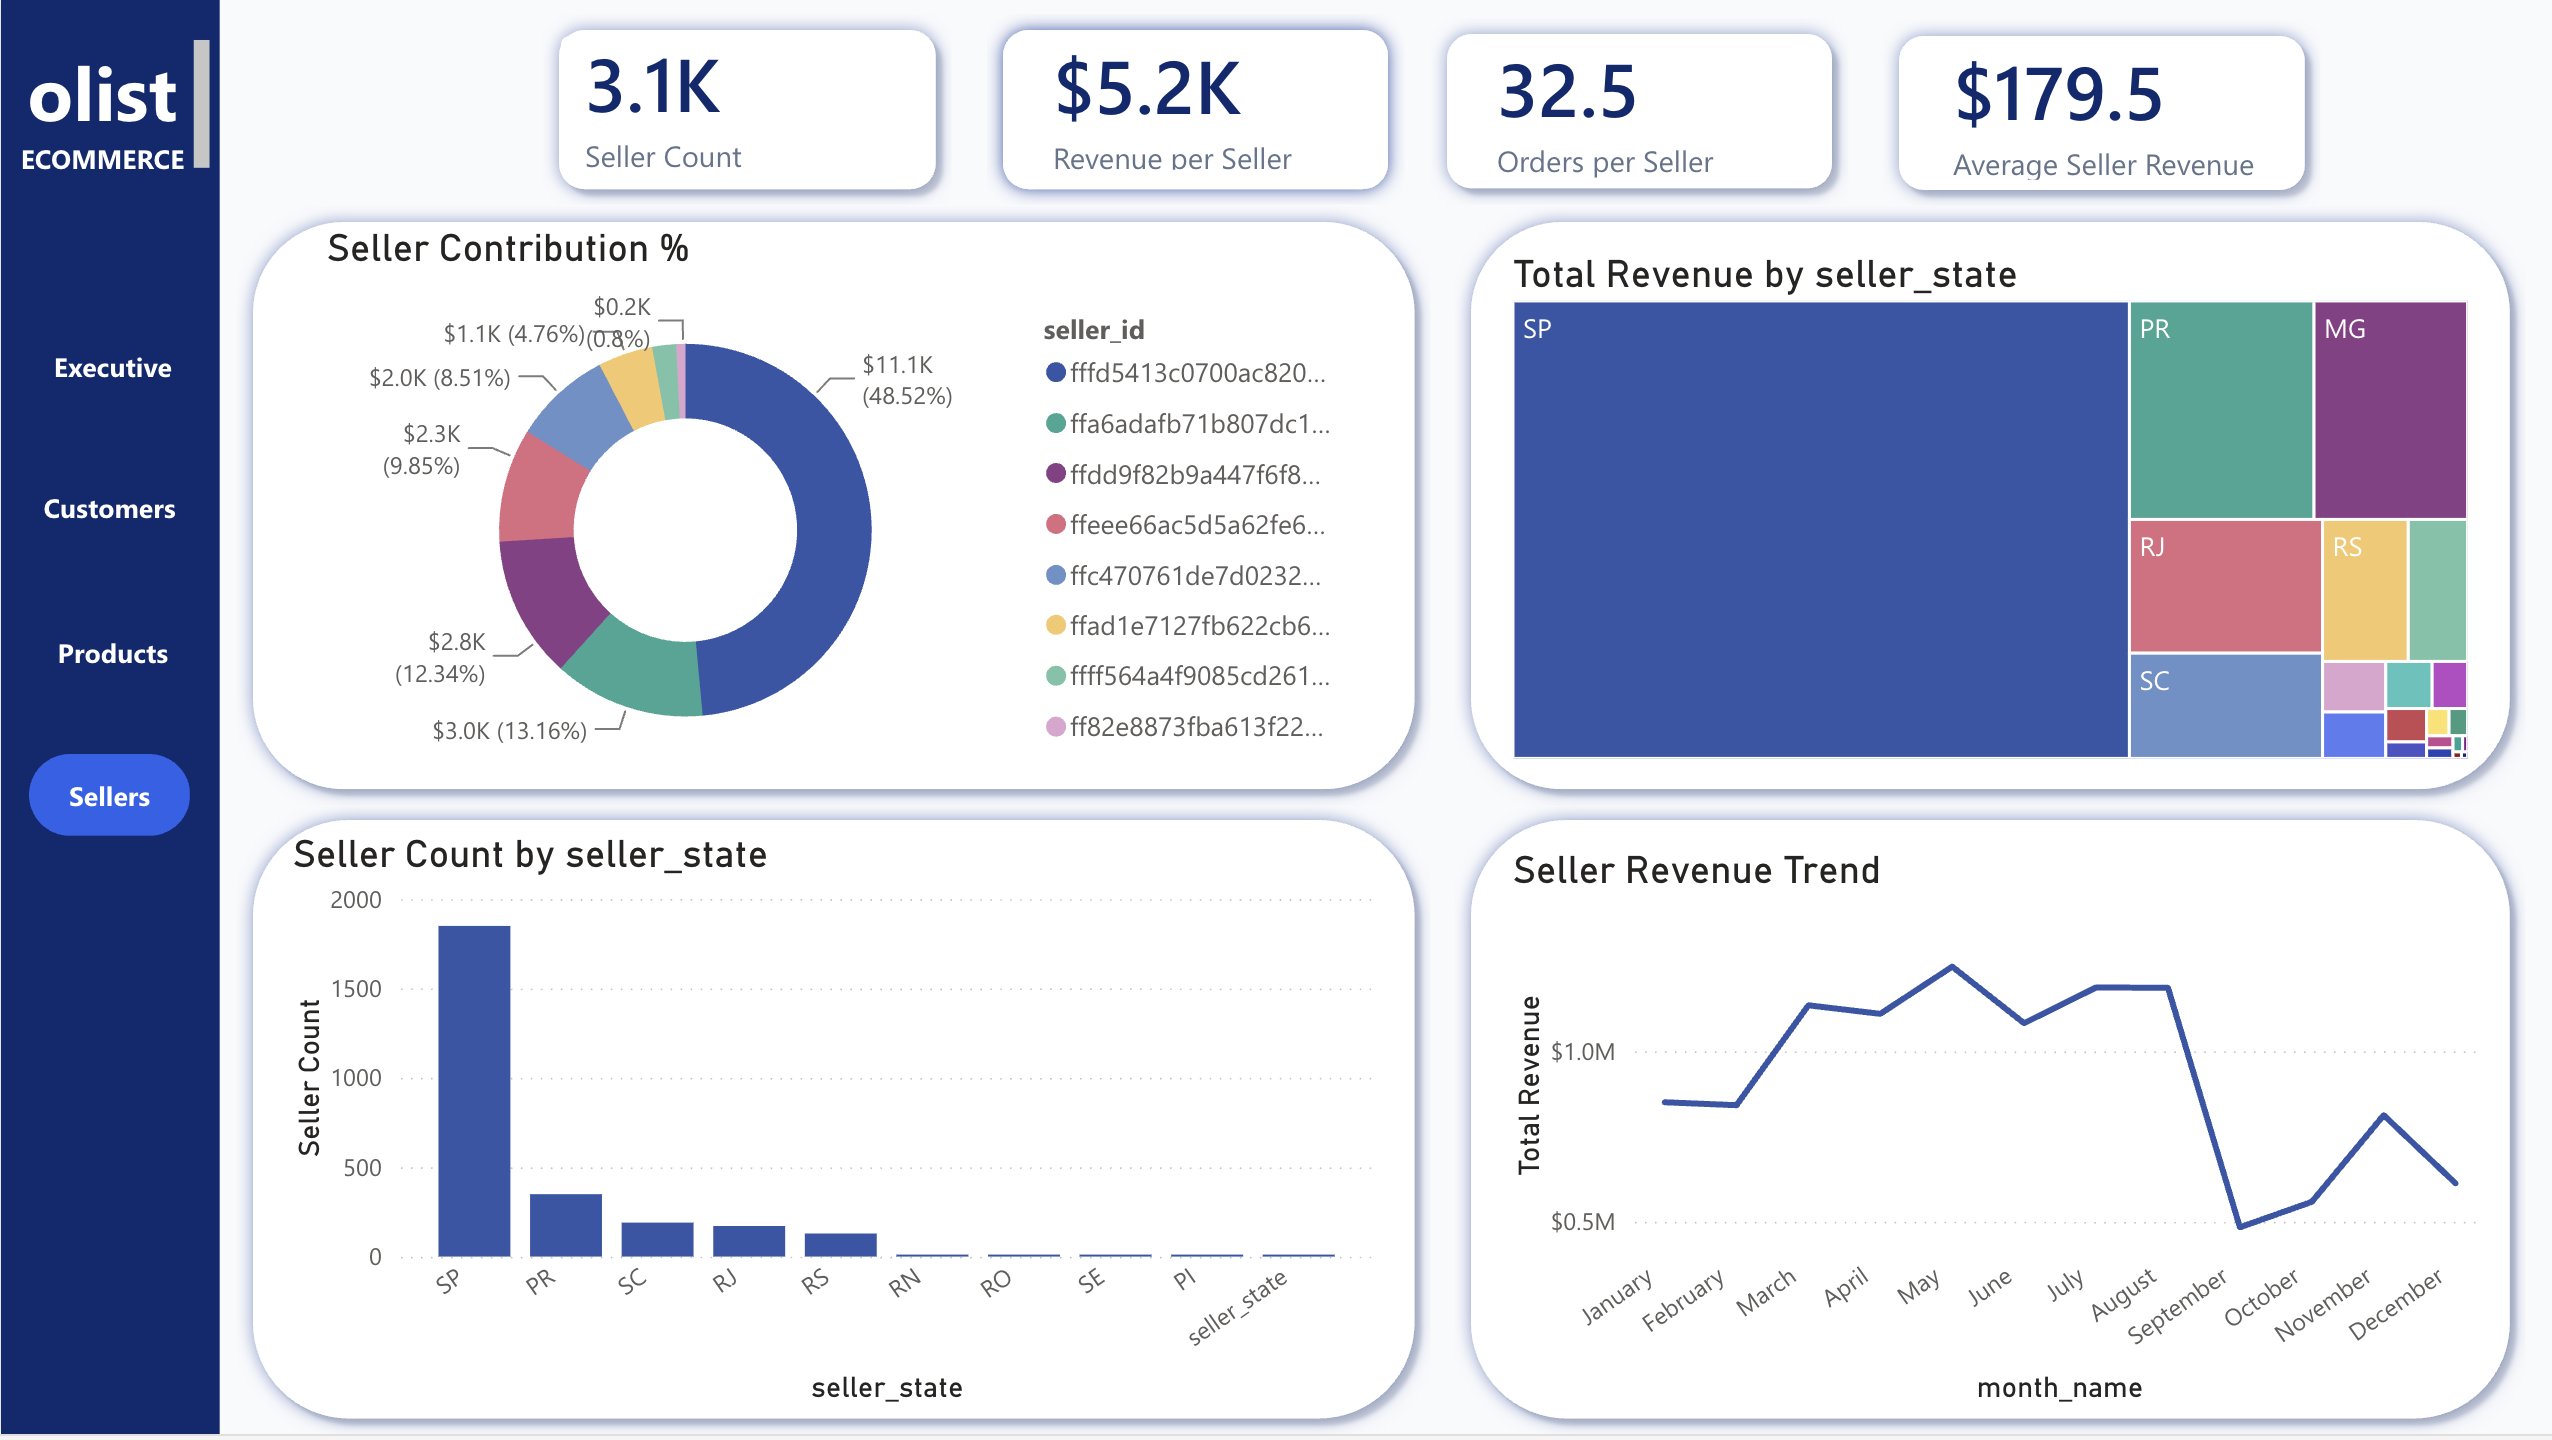

The dashboard page shown, as its layout file describes it:
{"tool":"powerbi","page":{"name":"Seller Analytics","canvas":[1280,720],"ordinal":3},"visuals":[{"type":"shape","box":[271.9,9.5,204.7,95.7],"z":0,"group":"g6"},{"type":"shape","box":[494.4,9.9,208.8,95.7],"z":0,"group":"g5"},{"type":"shape","box":[715.9,11.9,208.8,93.3],"z":0,"group":"g7"},{"type":"shape","box":[942.3,12.9,219.2,93.1],"z":0,"group":"g8"},{"type":"group","id":"g1","title":"Group 1","box":[118.1,104.8,597.6,300],"z":0},{"type":"shape","box":[118.1,104.8,597.6,300],"z":0,"group":"g1"},{"type":"shape","box":[727.7,104.8,536.1,300],"z":0,"group":"g3"},{"type":"shape","box":[118.1,404.8,597.6,315.7],"z":0,"group":"g2"},{"type":"shape","box":[727.7,404.8,536.1,315.7],"z":0,"group":"g9"},{"type":"cardVisual","fields":{"Data":["Measures (2).Orders per Seller"]},"box":[725.1,8.4,194.8,95.7],"z":1000,"group":"g7"},{"type":"cardVisual","fields":{"Data":["Measures (2).Seller Count"]},"box":[268.7,8.9,207.5,90.9],"z":1000,"group":"g6"},{"type":"cardVisual","fields":{"Data":["Measures (2).Revenue per Seller"]},"box":[503.9,9.5,193.8,90.9],"z":1000,"group":"g5"},{"type":"cardVisual","fields":{"Data":["Measures (2).Average Seller Revenue"]},"box":[953.3,10.5,203.4,94.4],"z":1000,"group":"g8"},{"type":"group","id":"g2","title":"Group 1","box":[118.1,404.8,597.6,315.7],"z":1000},{"type":"group","id":"g3","title":"Group 1","box":[727.7,104.8,536.1,300],"z":2000},{"type":"shape","box":[0,0,109.6,720.5],"z":3000},{"type":"textbox","box":[0,16.9,109.6,75.9],"z":4000},{"type":"actionButton","box":[15.7,165.1,80,40],"z":5000},{"type":"actionButton","box":[14.5,234.9,80.7,41],"z":6000},{"type":"actionButton","box":[14.5,379.5,80.7,41],"z":7000},{"type":"actionButton","box":[15.7,308.4,80,40],"z":8000},{"type":"group","id":"g4","title":"Group 3","box":[268.7,8.4,892.8,97.6],"z":9000},{"type":"group","id":"g5","title":"Group 1","box":[494.4,9.5,208.8,95.7],"z":10000,"group":"g4"},{"type":"donutChart","title":"Seller Contribution %","fields":{"Y":["fact_sales.Total Revenue"],"Category":["dim_seller.seller_id"]},"box":[157.8,116.9,522.9,283.1],"z":10000},{"type":"group","id":"g6","title":"Group 2","box":[268.7,8.9,207.9,96.3],"z":11000,"group":"g4"},{"type":"treemap","fields":{"Group":["dim_seller.seller_state"],"Values":["fact_sales.Total Revenue"]},"box":[751.8,130.1,488,256.6],"z":11000},{"type":"group","id":"g7","title":"Group 1","box":[715.9,8.4,208.8,96.8],"z":12000,"group":"g4"},{"type":"clusteredColumnChart","fields":{"Category":["dim_seller.seller_state"],"Y":["Measures (2).Seller Count"]},"box":[141,420.5,550.6,289.2],"z":12000},{"type":"group","id":"g8","title":"Group 1","box":[942.3,10.5,219.2,95.5],"z":13000,"group":"g4"},{"type":"group","id":"g9","title":"Group 1","box":[727.7,404.8,536.1,315.7],"z":13000},{"type":"lineChart","title":"Seller Revenue Trend","fields":{"Y":["fact_sales.Total Revenue"],"Category":["dim_date.month_name"]},"box":[751.8,428.9,496.4,280.7],"z":14000}]}

Visuals, with their boxes on the page's 1280x720 design canvas (x1, y1, x2, y2). These are canvas units, not pixel positions in the 2552x1440 screenshot, which may show the page scaled, cropped or inside an application window:
shape: l=272, t=10, r=477, b=105
shape: l=494, t=10, r=703, b=106
shape: l=716, t=12, r=925, b=105
shape: l=942, t=13, r=1162, b=106
"Group 1" group: l=118, t=105, r=716, b=405
shape: l=118, t=105, r=716, b=405
shape: l=728, t=105, r=1264, b=405
shape: l=118, t=405, r=716, b=720
shape: l=728, t=405, r=1264, b=720
cardVisual - Measures (2).Orders per Seller: l=725, t=8, r=920, b=104
cardVisual - Measures (2).Seller Count: l=269, t=9, r=476, b=100
cardVisual - Measures (2).Revenue per Seller: l=504, t=10, r=698, b=100
cardVisual - Measures (2).Average Seller Revenue: l=953, t=10, r=1157, b=105
"Group 1" group: l=118, t=405, r=716, b=720
"Group 1" group: l=728, t=105, r=1264, b=405
shape: l=0, t=0, r=110, b=720
textbox: l=0, t=17, r=110, b=93
actionButton: l=16, t=165, r=96, b=205
actionButton: l=14, t=235, r=95, b=276
actionButton: l=14, t=380, r=95, b=420
actionButton: l=16, t=308, r=96, b=348
"Group 3" group: l=269, t=8, r=1162, b=106
"Group 1" group: l=494, t=10, r=703, b=105
"Seller Contribution %" donutChart: l=158, t=117, r=681, b=400
"Group 2" group: l=269, t=9, r=477, b=105
treemap - dim_seller.seller_state x fact_sales.Total Revenue: l=752, t=130, r=1240, b=387
"Group 1" group: l=716, t=8, r=925, b=105
clusteredColumnChart - dim_seller.seller_state x Measures (2).Seller Count: l=141, t=420, r=692, b=710
"Group 1" group: l=942, t=10, r=1162, b=106
"Group 1" group: l=728, t=405, r=1264, b=720
"Seller Revenue Trend" lineChart: l=752, t=429, r=1248, b=710
